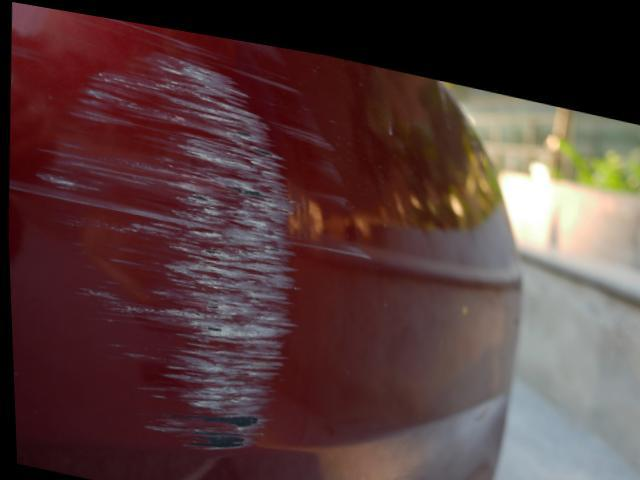scratch: (29, 10, 368, 447)
